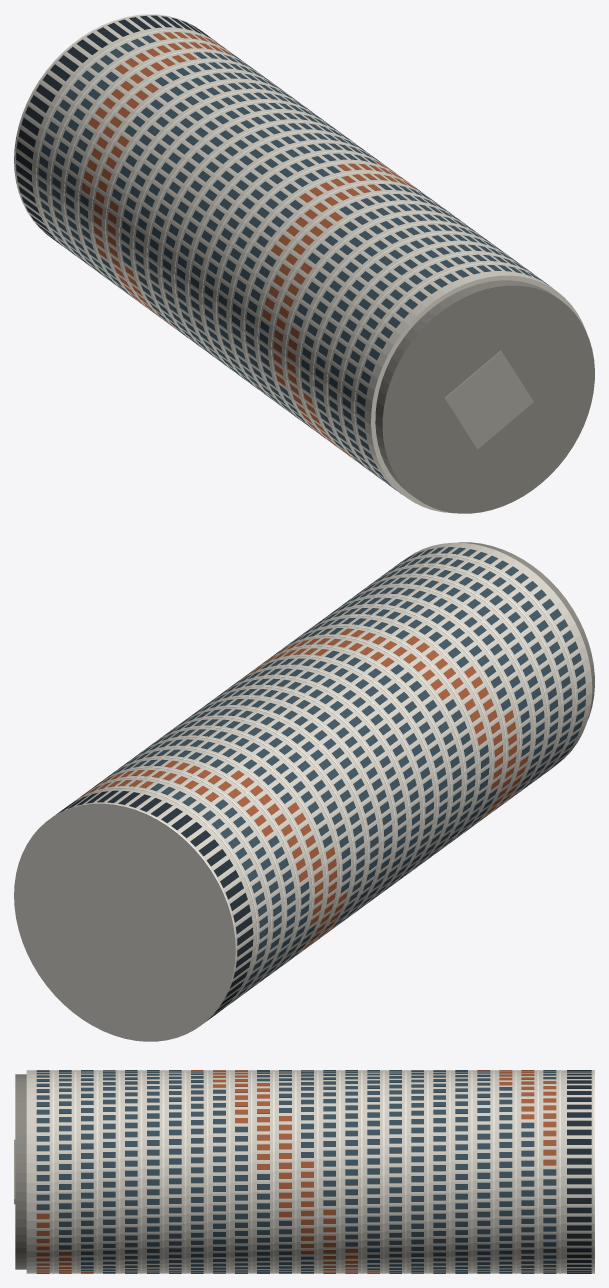
The model's file is tower.obj.
3 views of the same model, one above another, from view 1: azimuth 30°, elevation 25°; view 2: azimuth 150°, elevation 25°; view 3: azimuth 270°, elevation 25° (orthographic). The views are drawn at different scales.
Visible parts, largest first — view 1: Crown, Envelope_25, Roof_plant, Envelope_1, Envelope_3, Envelope_9, Envelope_10, Envelope_4, Envelope_8, Envelope_15, Envelope_14, Envelope_20 (+15 smaller); view 2: Floor_1, Envelope_25, Envelope_1, Envelope_22, Envelope_16, Envelope_10, Envelope_24, Envelope_5, Envelope_23, Envelope_21, Envelope_7, Envelope_9 (+15 smaller); view 3: Envelope_1, Envelope_25, Envelope_3, Envelope_4, Envelope_5, Envelope_7, Envelope_6, Envelope_2, Envelope_9, Envelope_10, Envelope_11, Envelope_12 (+39 smaller).
Boxes of the visible parts, x1,y1,x2,y2 form: Crown: (375, 280, 594, 513); Envelope_25: (354, 263, 586, 513); Roof_plant: (444, 350, 533, 449); Envelope_1: (15, 15, 213, 247); Envelope_3: (50, 41, 242, 266); Envelope_9: (133, 101, 324, 328); Envelope_10: (147, 112, 339, 338); Envelope_4: (64, 51, 256, 276); Envelope_8: (119, 91, 310, 318); Envelope_15: (216, 162, 406, 387); Envelope_14: (202, 152, 390, 377); Envelope_20: (285, 213, 477, 438); Floor_1: (14, 803, 236, 1041); Envelope_25: (400, 542, 592, 768); Envelope_1: (58, 788, 256, 1015); Envelope_22: (360, 575, 547, 800); Envelope_16: (275, 636, 464, 860); Envelope_10: (190, 697, 381, 918); Envelope_24: (386, 555, 574, 779); Envelope_5: (124, 747, 312, 972); Envelope_23: (373, 565, 560, 790); Envelope_21: (341, 585, 533, 812); Envelope_7: (150, 727, 339, 951); Envelope_9: (177, 707, 367, 929); Envelope_1: (561, 1070, 593, 1273); Envelope_25: (26, 1070, 52, 1273); Envelope_3: (516, 1070, 537, 1273); Envelope_4: (494, 1070, 515, 1273); Envelope_5: (472, 1070, 493, 1273); Envelope_7: (428, 1070, 449, 1273); Envelope_6: (450, 1070, 471, 1273); Envelope_2: (539, 1070, 559, 1273); Envelope_9: (384, 1070, 404, 1273); Envelope_10: (362, 1070, 382, 1273); Envelope_11: (340, 1070, 360, 1273); Envelope_12: (318, 1070, 338, 1273).
Size of the model in its own units: 28.7 by 28.7 by 81.76.
